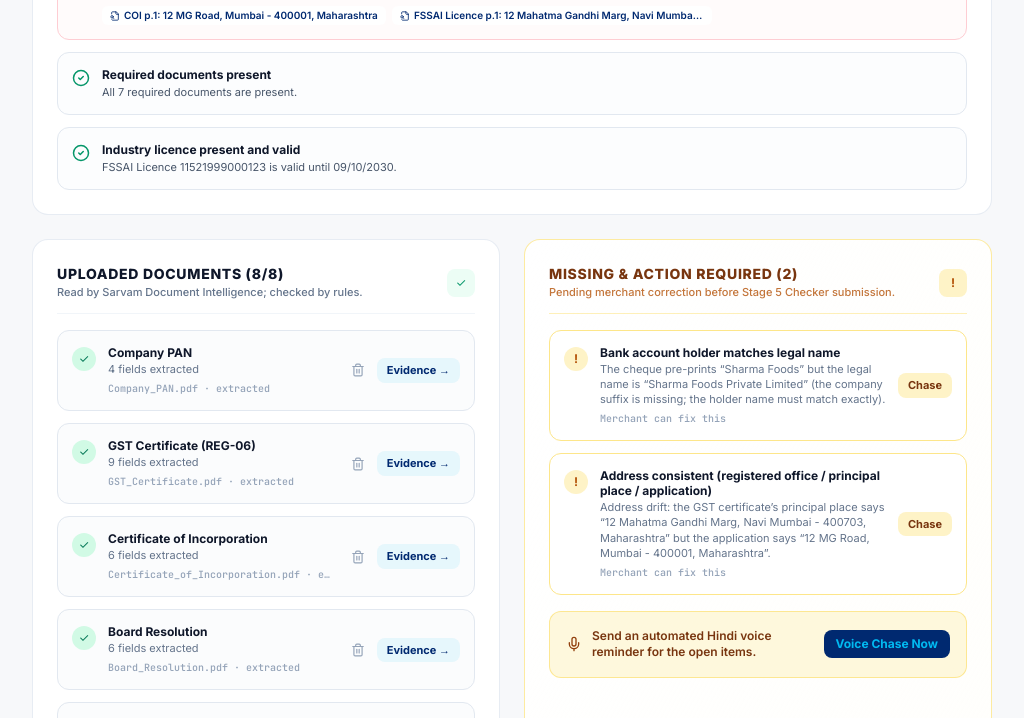
it: Delete a submitted file (KAM) › shows the server reason when a delete is refused
(page scrolled)
What coordinates should you click on to do the following:
click the button named "Delete "
I would click on:
 (358, 370)
Its box is [345, 357, 371, 383].
(page scrolled)
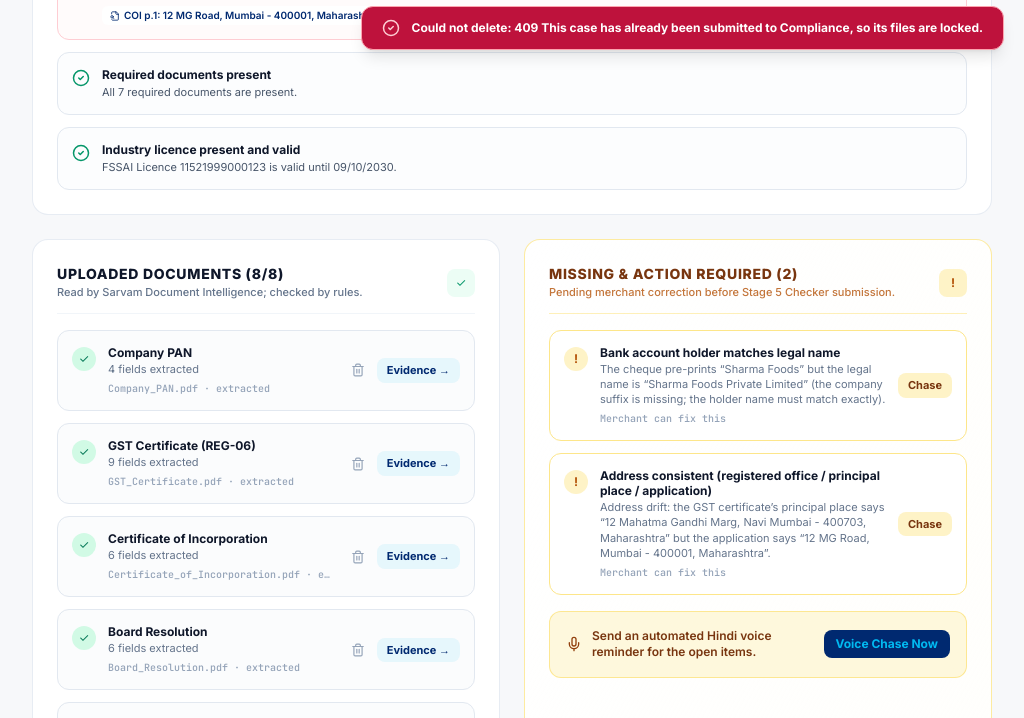
expect the text "files are locked" is shown: met, box [412, 20, 983, 35]
